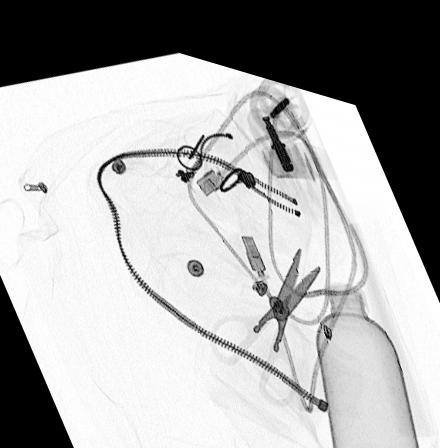Scissors: (208, 227, 323, 394)
